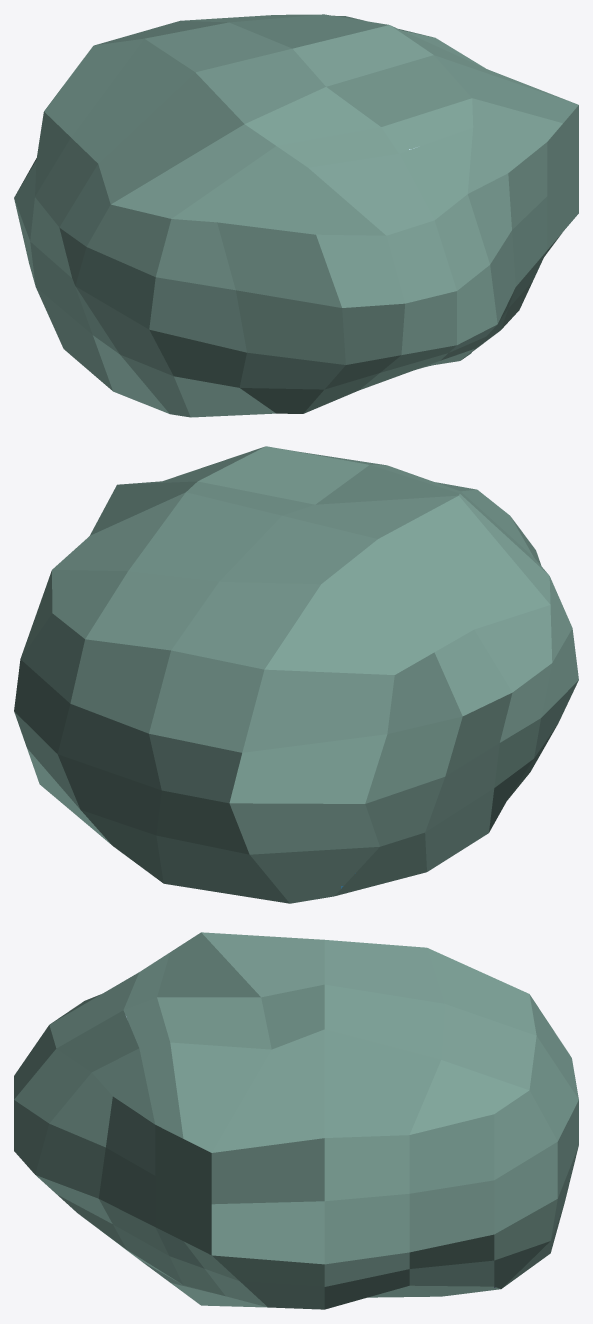
File: boulder_jj.gltf
The picture shows the model from 3 angles, top to bottom: view 1: azimuth 30°, elevation 25°; view 2: azimuth 150°, elevation 25°; view 3: azimuth 270°, elevation 25°; orthographic projection. The views are drawn at different scales.
Parts seen in each view (by area): view 1: cuboid; view 2: cuboid; view 3: cuboid.
Boxes of the visible parts, x1=… form: cuboid: x1=14, y1=14, x2=578, y2=417; cuboid: x1=14, y1=446, x2=578, y2=903; cuboid: x1=14, y1=932, x2=578, y2=1309.
Bounding box in the file's own units: 2.34 × 1.31 × 2.5.
Materials: 1 (1 with a texture image).
